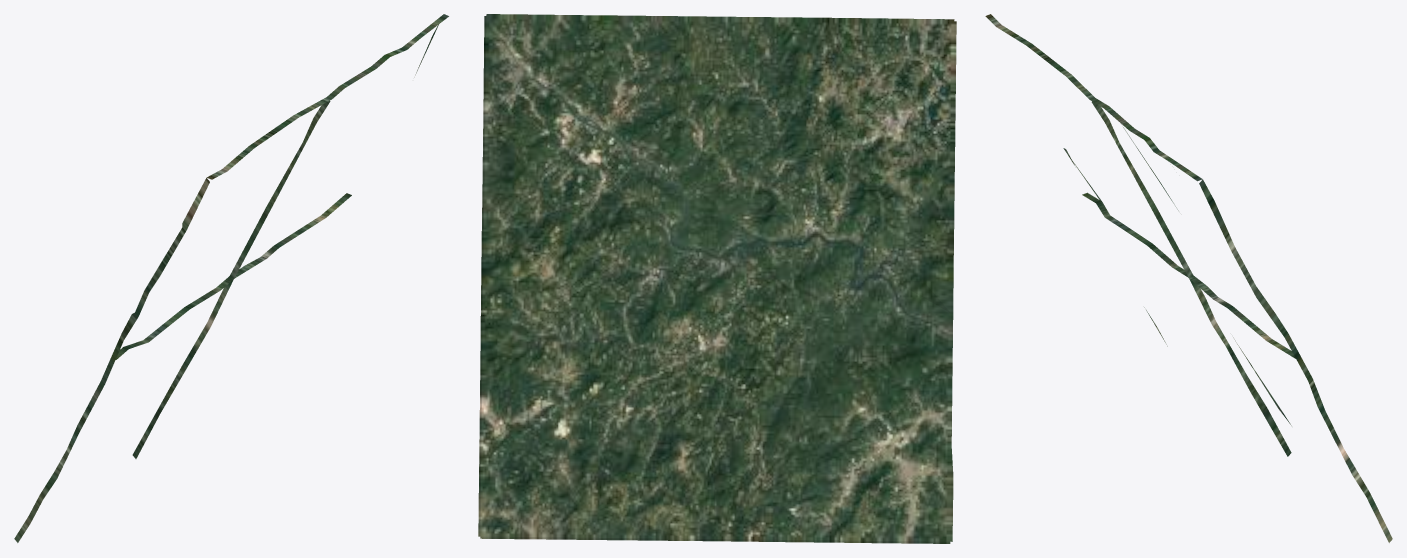
3 views of the same model, side by side, from view 1: azimuth 30°, elevation 25°; view 2: azimuth 150°, elevation 25°; view 3: azimuth 270°, elevation 25° (orthographic). The views are drawn at different scales.
Bounding box in the file's own units: 79377 × 71235 × 64488.
1 material, 1 textured.
